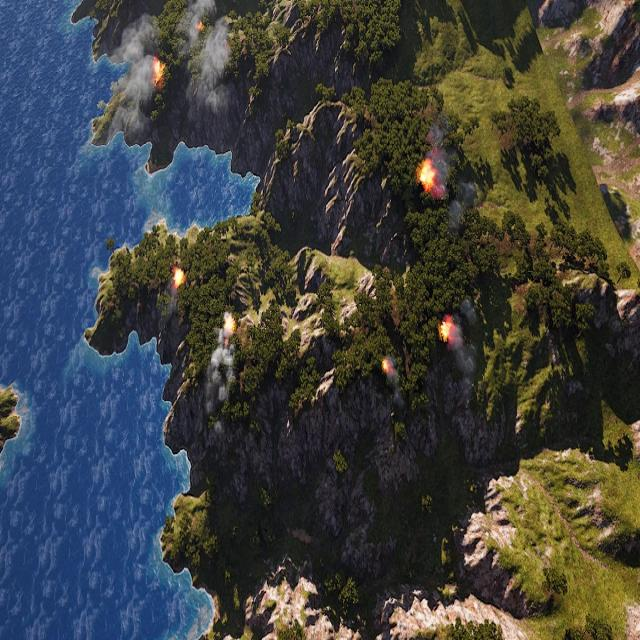fire: (417, 160, 437, 192), (439, 316, 456, 341), (151, 58, 165, 86), (170, 266, 187, 286), (223, 316, 235, 336), (194, 19, 205, 33)
smoke: (111, 10, 159, 140), (182, 0, 234, 110), (429, 127, 477, 226), (444, 298, 484, 408), (199, 320, 237, 434)
